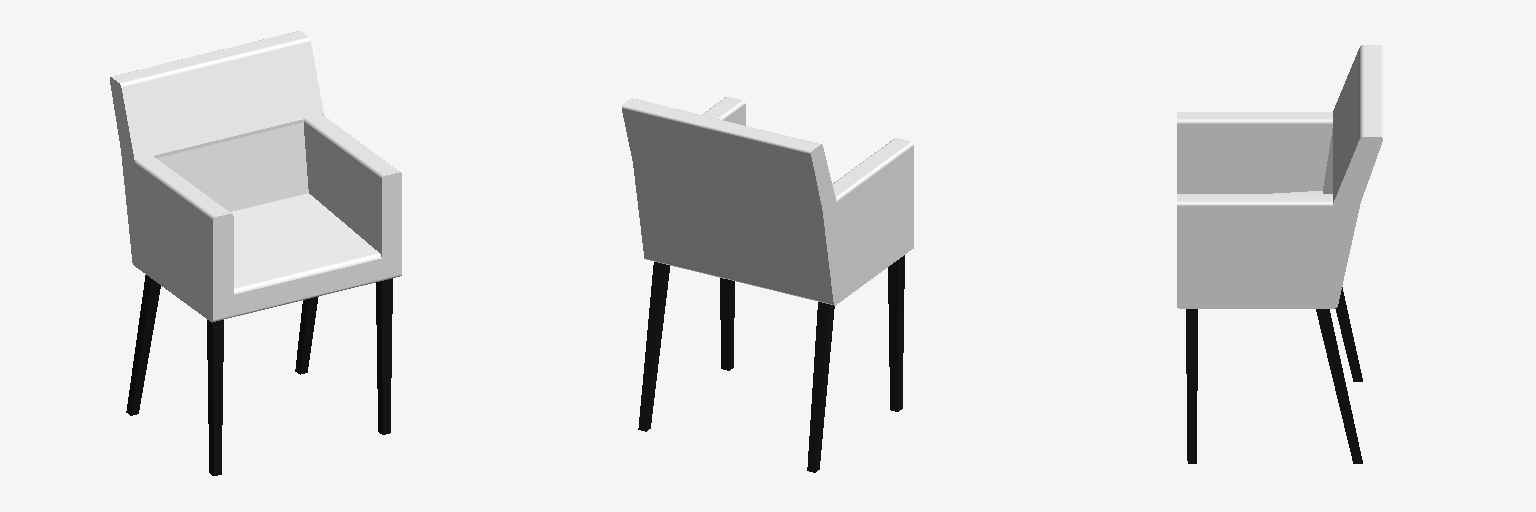
3 views of the same model, side by side, from view 1: azimuth 30°, elevation 25°; view 2: azimuth 150°, elevation 25°; view 3: azimuth 270°, elevation 25° (orthographic).
Visible parts, largest first — view 1: Mesh1 stoel1 Model; view 2: Mesh1 stoel1 Model; view 3: Mesh1 stoel1 Model.
Part boxes in pixels (x1,y1,x2,y2): Mesh1 stoel1 Model: (110, 31, 401, 475); Mesh1 stoel1 Model: (622, 97, 913, 472); Mesh1 stoel1 Model: (1177, 45, 1382, 463).
Bounding box in the file's own units: 600 × 1000 × 567.